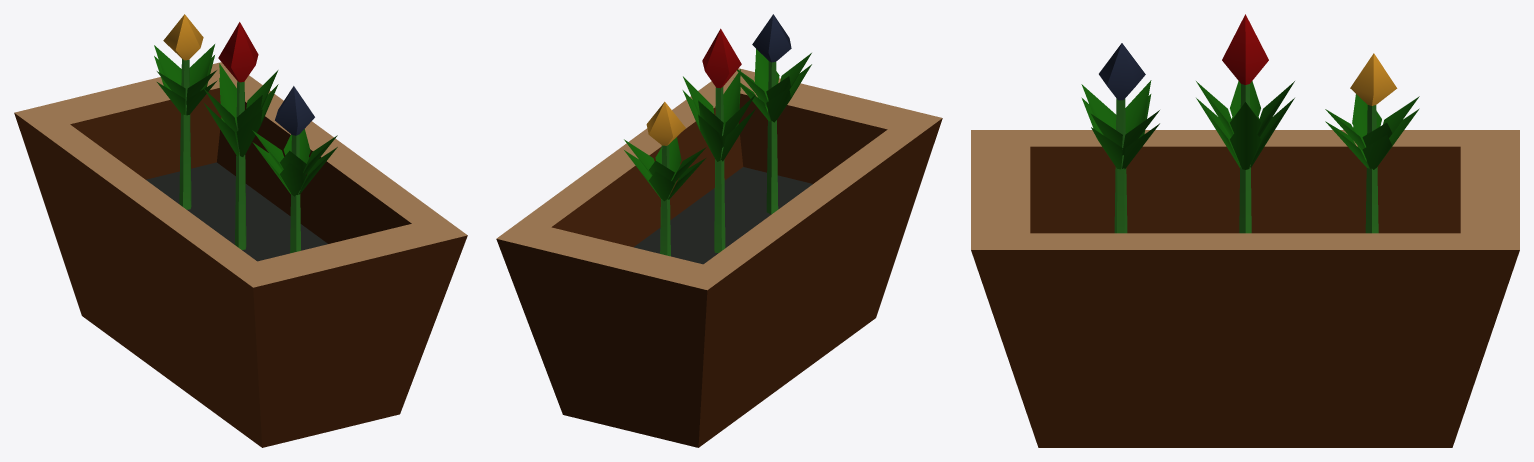
Rendered from SM_Flowers_T1.fbx.
3 views of the same model, side by side, from view 1: azimuth 30°, elevation 25°; view 2: azimuth 150°, elevation 25°; view 3: azimuth 270°, elevation 25° (orthographic). The views are drawn at different scales.
Visible parts, largest first — view 1: SM_Flowers_T1; view 2: SM_Flowers_T1; view 3: SM_Flowers_T1.
Part boxes in pixels (<box>): SM_Flowers_T1: <box>14,14,467,447</box>; SM_Flowers_T1: <box>496,14,942,447</box>; SM_Flowers_T1: <box>971,14,1519,447</box>.
Size of the model in its own units: 6.48 by 9.92 by 12.51.
